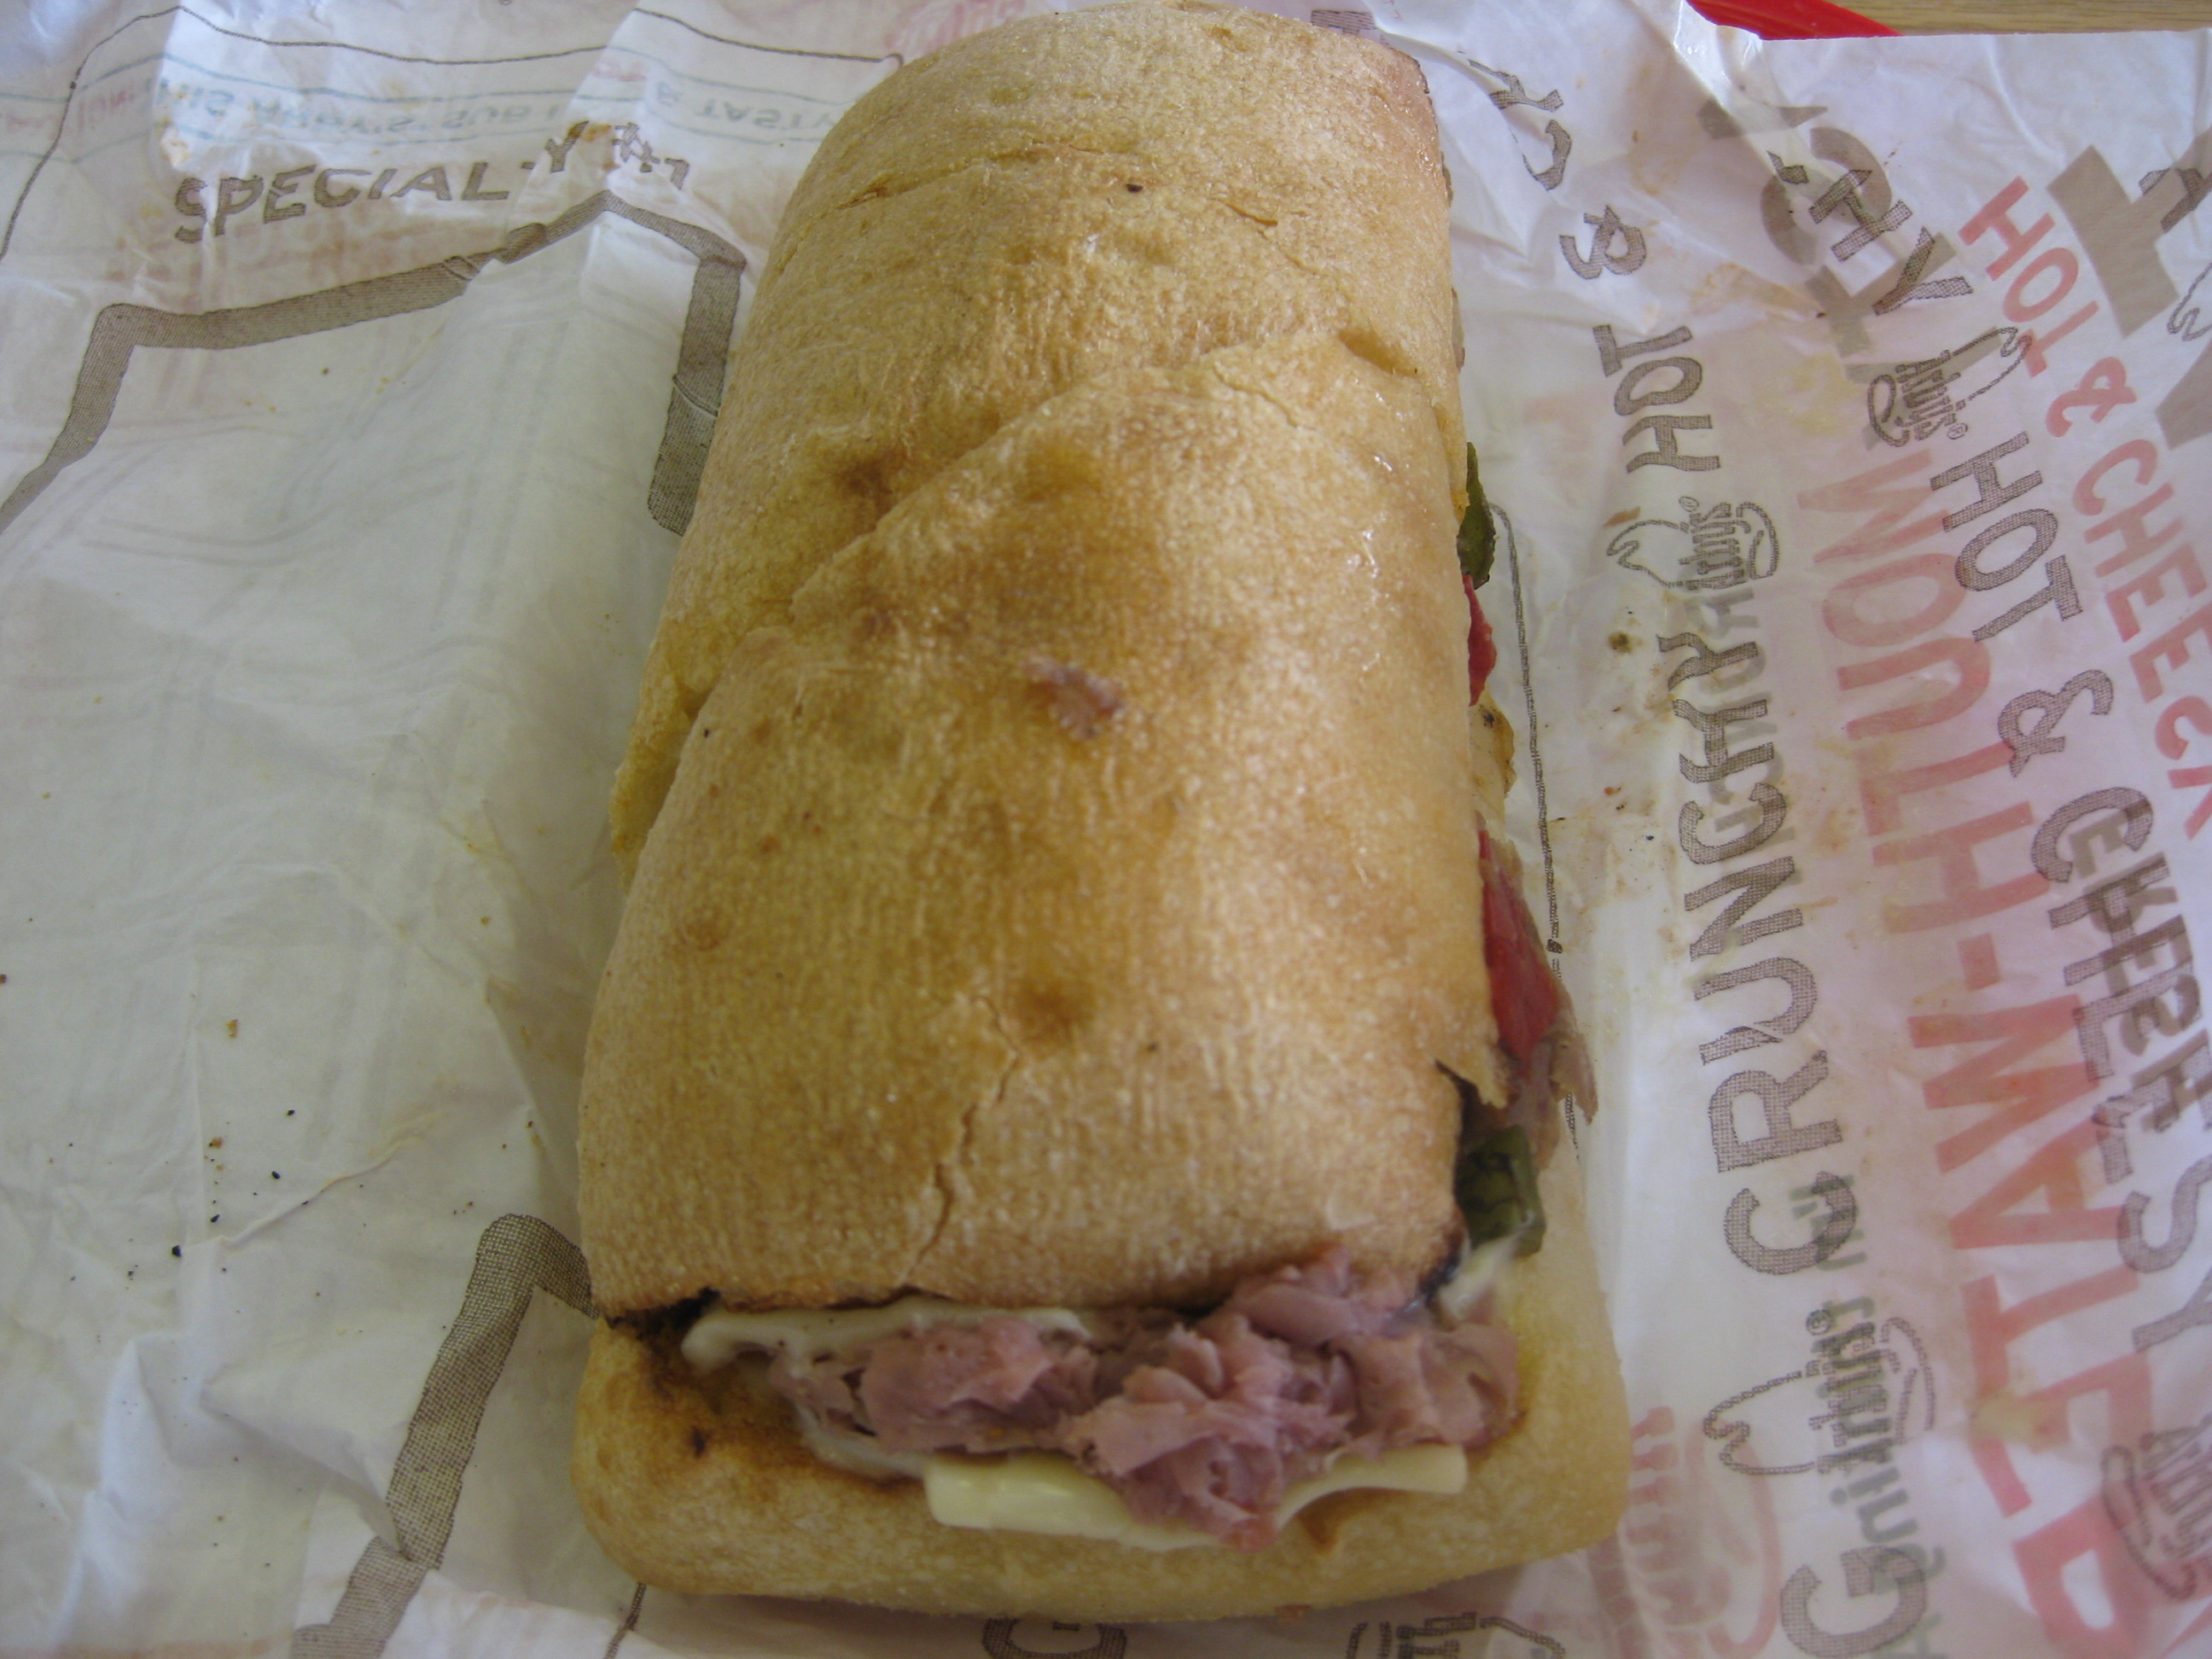sub: (588, 16, 1674, 1602)
